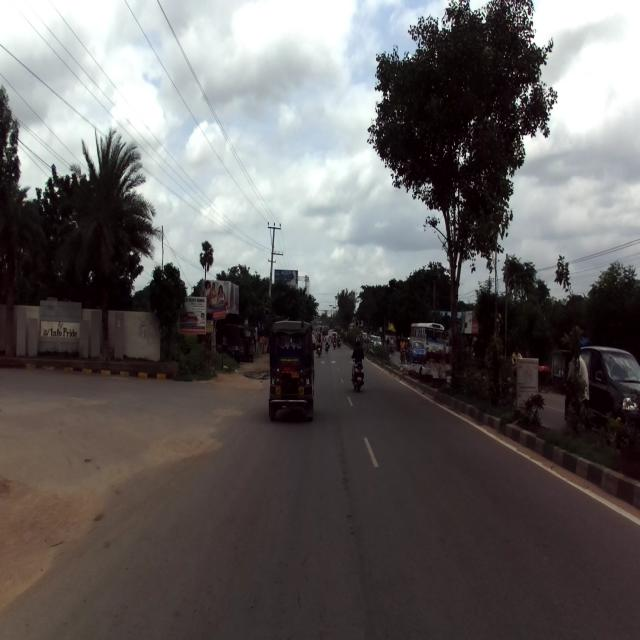autorickshaw: (267, 318, 316, 422)
